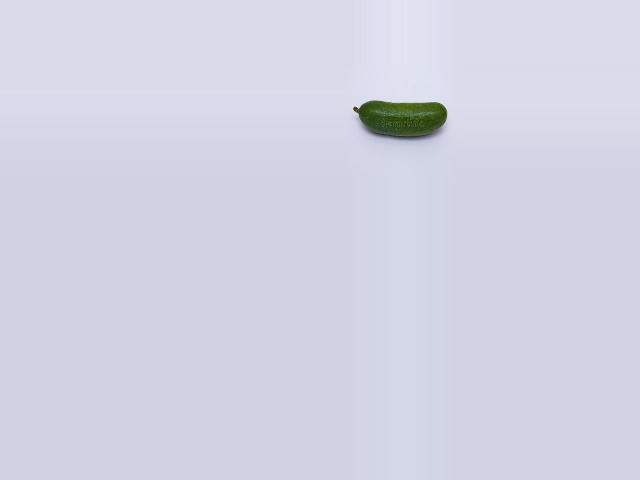cucumber: (353, 101, 447, 137)
